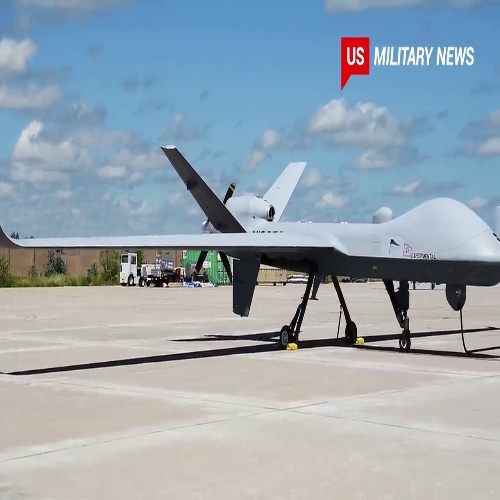uav678: (1, 143, 498, 355)
